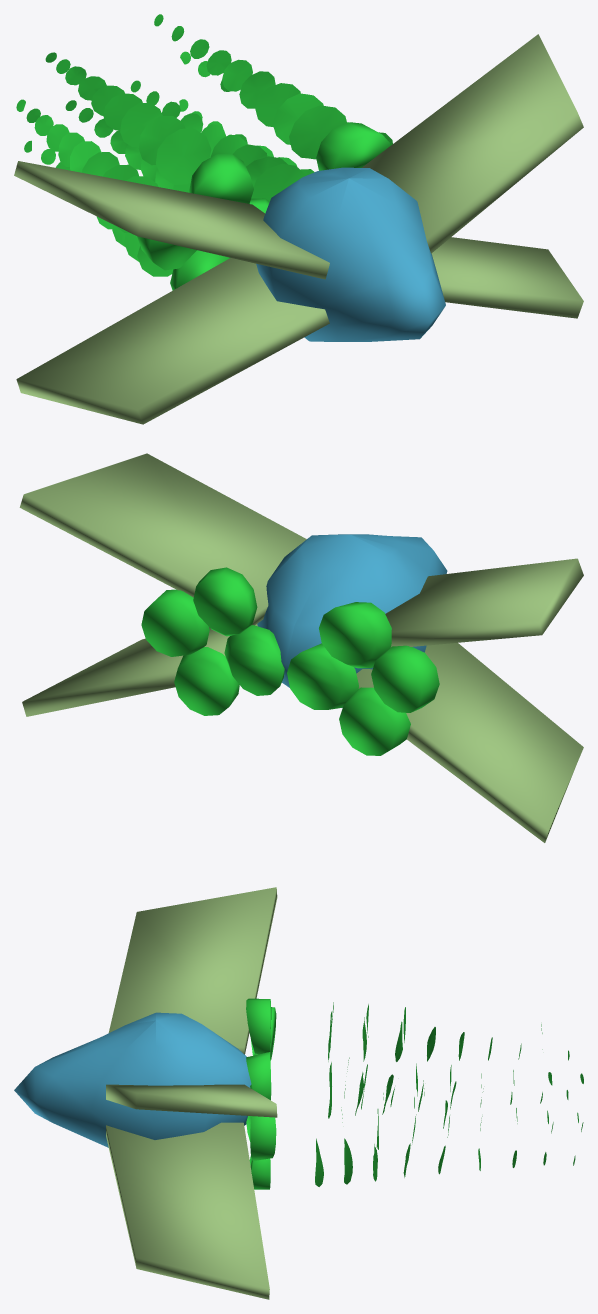
The model's file is ship_7.gltf.
3 views of the same model, one above another, from view 1: azimuth 30°, elevation 25°; view 2: azimuth 150°, elevation 25°; view 3: azimuth 270°, elevation 25° (orthographic). The views are drawn at different scales.
Parts seen in each view (by area): view 1: gtlf; view 2: gtlf; view 3: gtlf.
Part boxes in pixels (x1,y1,x2,y2): gtlf: [14, 14, 583, 424]; gtlf: [19, 453, 583, 842]; gtlf: [14, 887, 583, 1299].
Size of the model in its own units: 1.93 by 0.7937 by 2.1.
